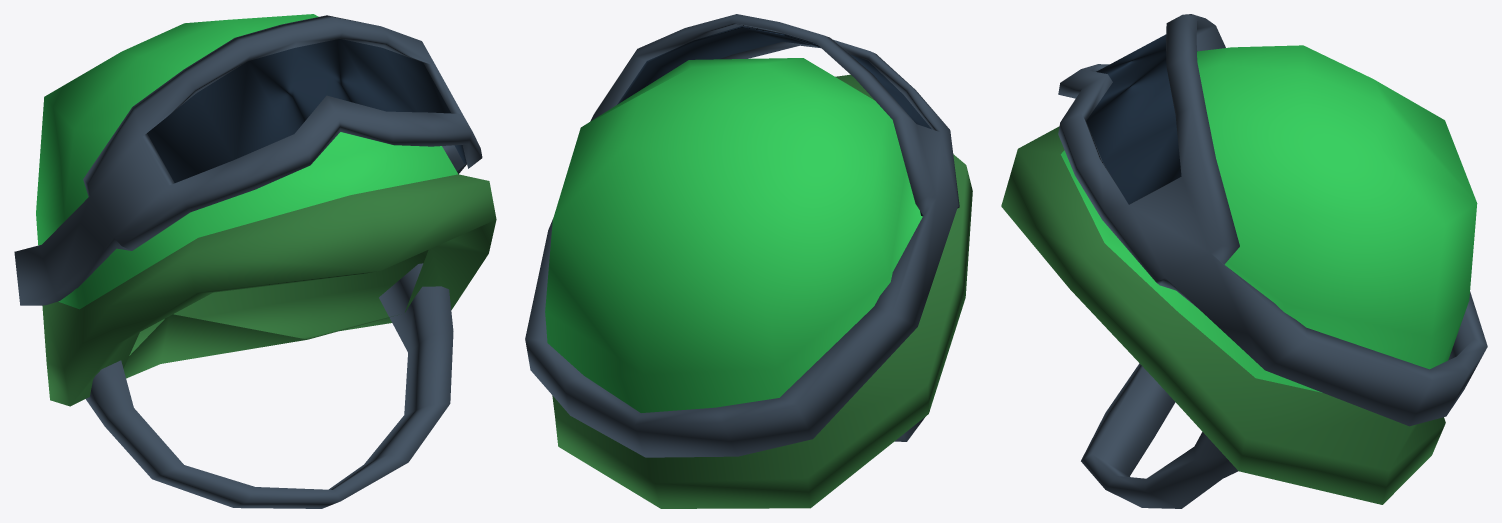
The model's file is hyper_casual_helmet.fbx.
3 views of the same model, side by side, from view 1: azimuth 30°, elevation 25°; view 2: azimuth 150°, elevation 25°; view 3: azimuth 270°, elevation 25° (orthographic). The views are drawn at different scales.
Parts seen in each view (by area): view 1: Soldat.001; view 2: Soldat.001; view 3: Soldat.001.
Part boxes in pixels (bbox=[...]): Soldat.001: bbox=[14, 14, 496, 508]; Soldat.001: bbox=[525, 14, 972, 508]; Soldat.001: bbox=[1001, 14, 1487, 508].
Bounding box in the file's own units: 266 × 303 × 299.
